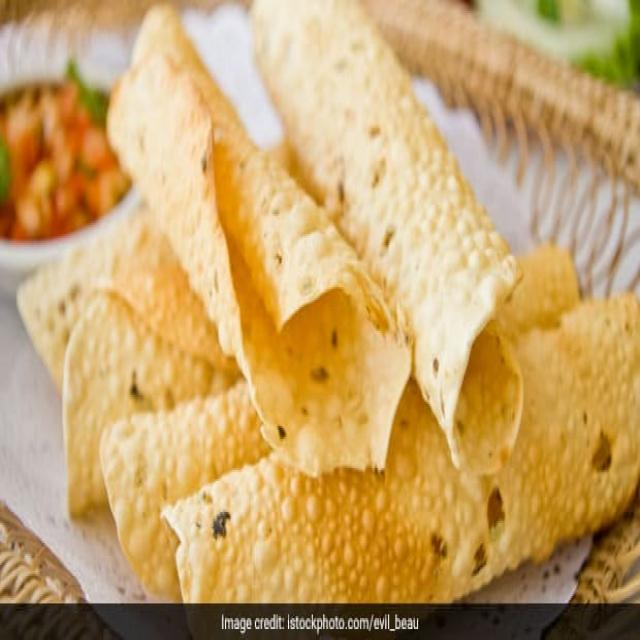papad: (114, 13, 408, 486), (273, 0, 531, 457), (165, 389, 639, 602), (22, 235, 230, 468), (102, 383, 281, 560)
